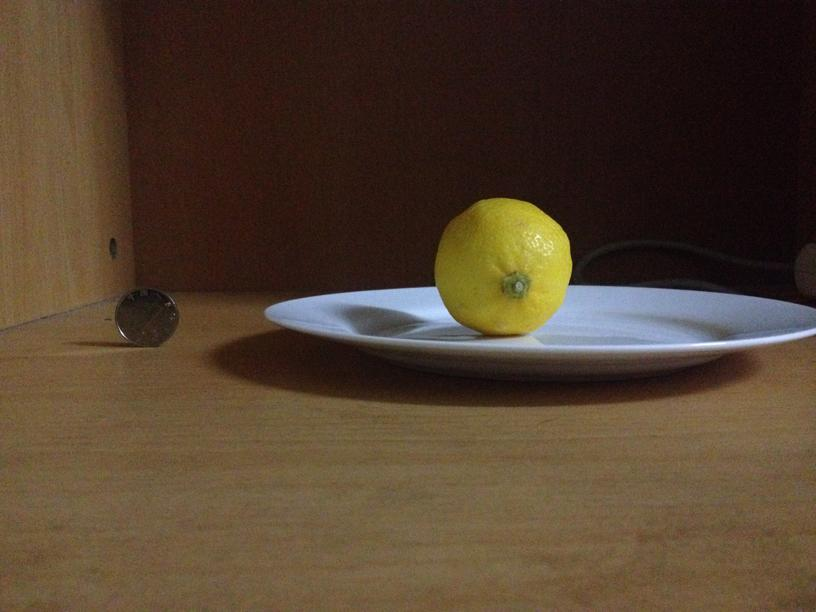coin: (116, 288, 178, 345)
lemon: (433, 192, 572, 335)
